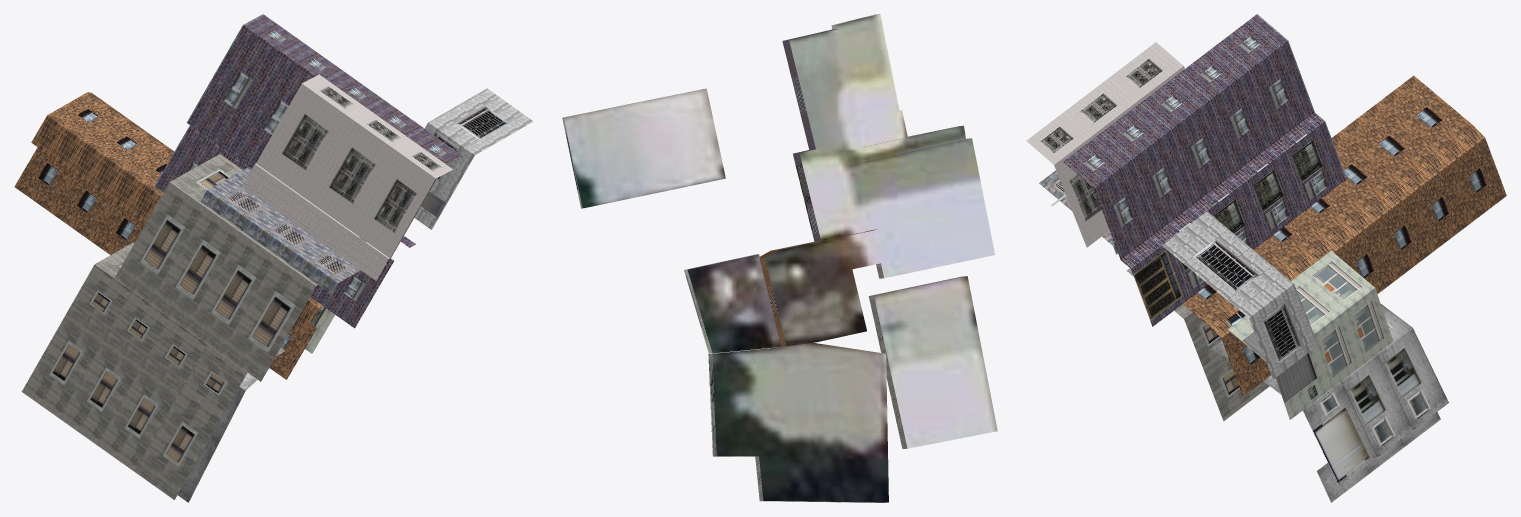
3 renders of one model, left to right at view 1: azimuth 30°, elevation 25°; view 2: azimuth 150°, elevation 25°; view 3: azimuth 270°, elevation 25°, orthographic. The views are drawn at different scales.
Size of the model in its own units: 36.44 by 34.11 by 31.61.
35 materials, 35 textured.
